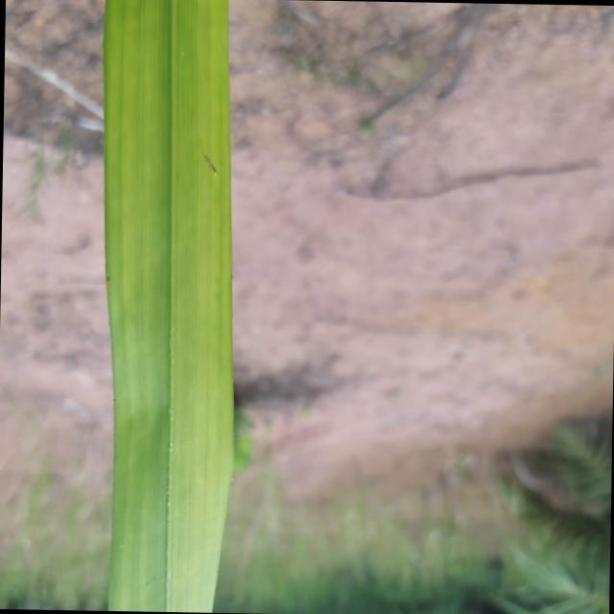nitrogen: (96, 0, 235, 614)
